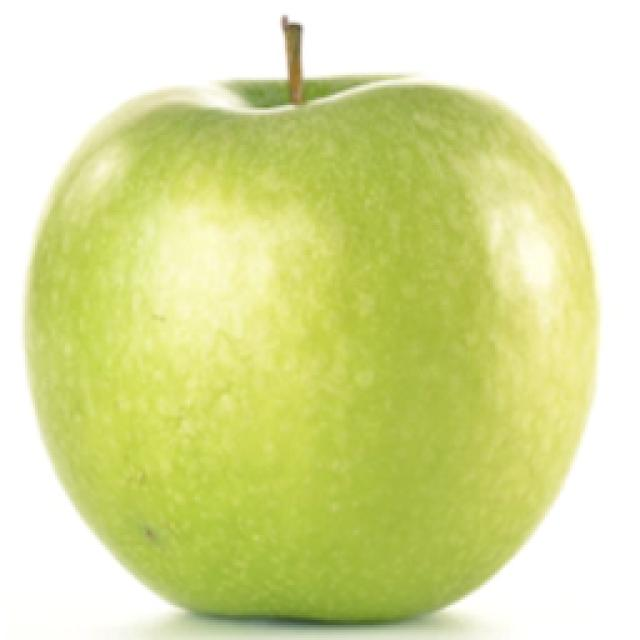Fresh_Apple: (20, 46, 630, 640)
